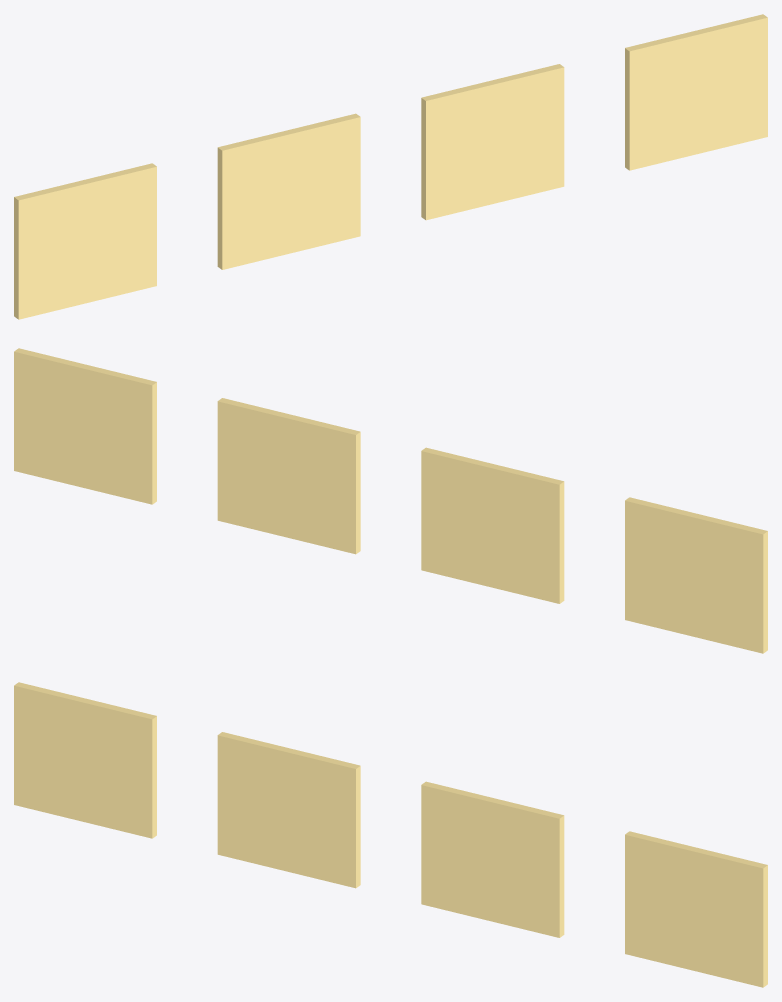
File: SM_PuestoFrente_v1_LOD1.fbx
3 renders of one model, top to bottom at view 1: azimuth 30°, elevation 25°; view 2: azimuth 150°, elevation 25°; view 3: azimuth 330°, elevation 25°, orthographic.
Parts seen in each view (by area): view 1: Luces; view 2: Luces; view 3: Luces.
Part boxes in pixels (<box>): Luces: <box>14,14,767,319</box>; Luces: <box>14,348,767,653</box>; Luces: <box>14,682,767,987</box>.
Size of what is drawn, in the model's own units: 1.84 by 0.28 by 0.02.
